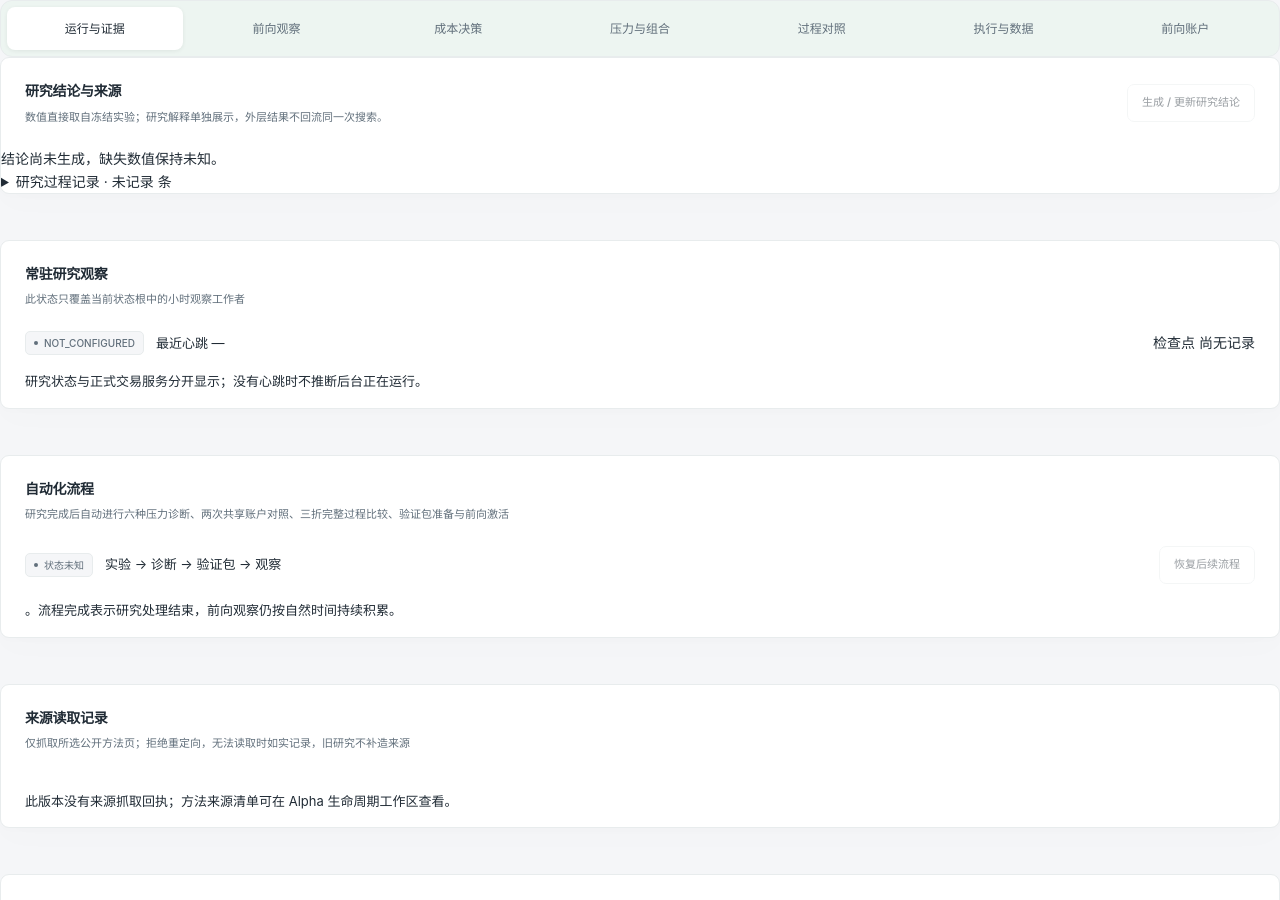
Test: keeps missing profitability evidence unknown instead of inferring gross profits
The image size is (1280, 900).
Click the tab "成本决策". click: (458, 29)
box: top-left (370, 7), bottom-right (546, 50)
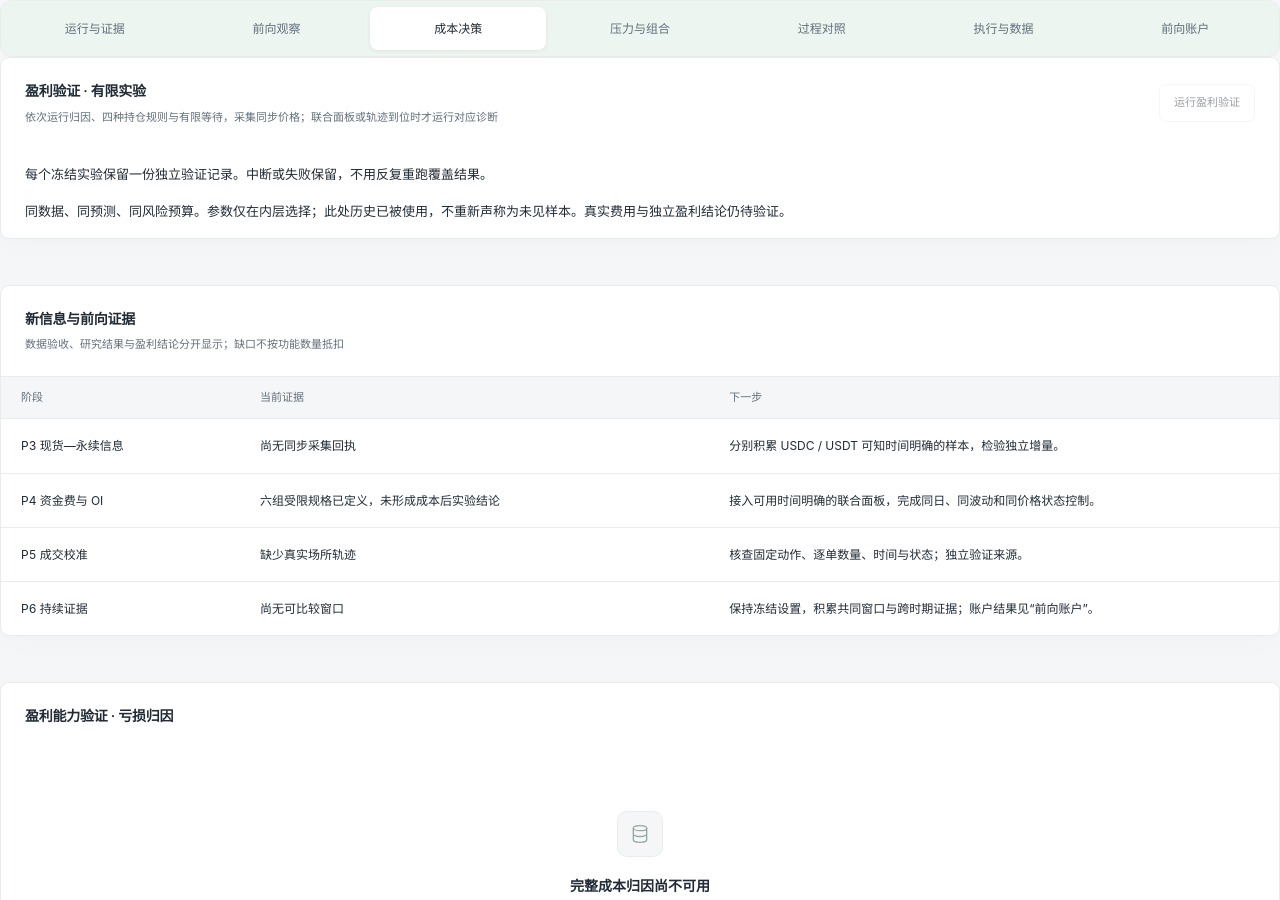
Now the heading "完整成本归因尚不可用" is shown, box top-left (570, 875), bottom-right (710, 898)
